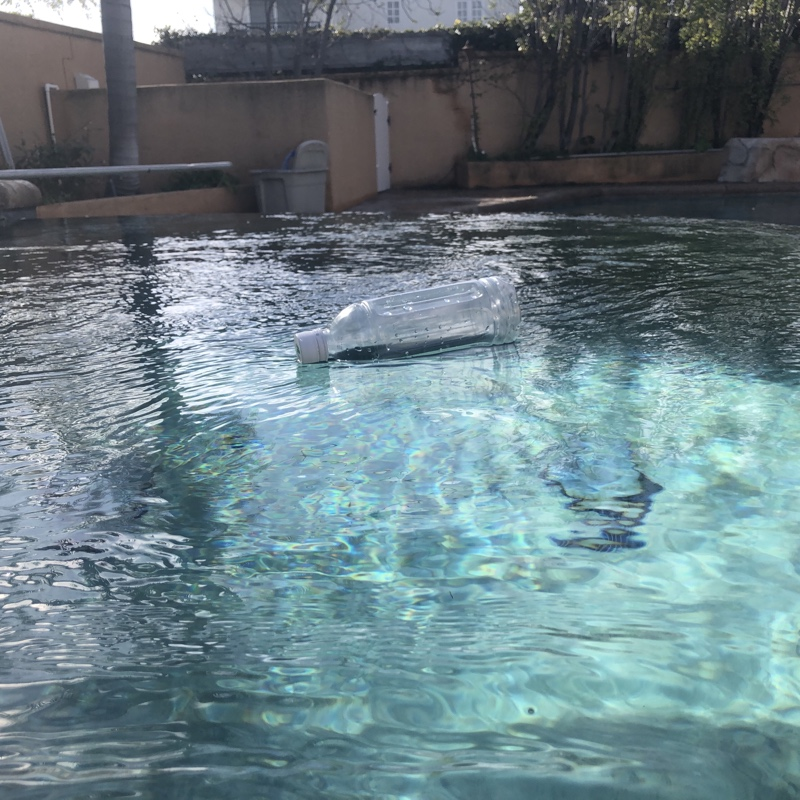Plastic Bottle: (290, 273, 523, 367)
